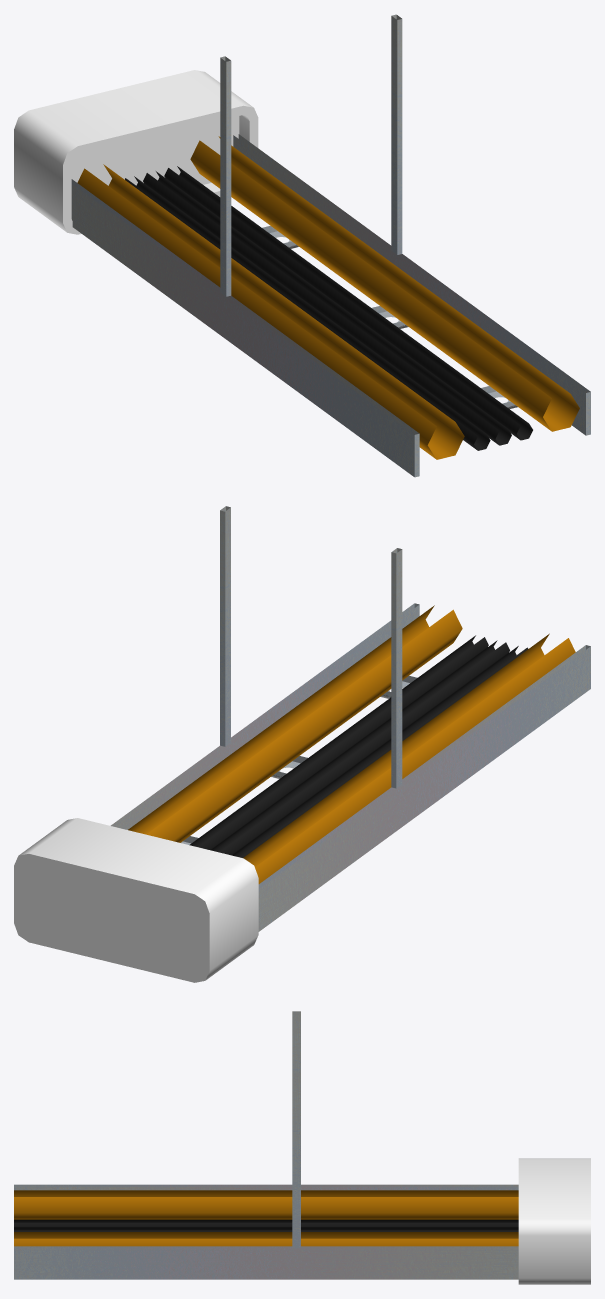
File: cabletray_Deadend.fbx
The picture shows the model from 3 angles, top to bottom: view 1: azimuth 30°, elevation 25°; view 2: azimuth 150°, elevation 25°; view 3: azimuth 270°, elevation 25°; orthographic projection. The views are drawn at different scales.
Parts seen in each view (by area): view 1: Cable_D.010; view 2: Cable_D.010; view 3: Cable_D.010.
Part boxes in pixels (left/top/right/bottom): Cable_D.010: left=14, top=14, right=590, bottom=477; Cable_D.010: left=14, top=506, right=590, bottom=982; Cable_D.010: left=14, top=1011, right=590, bottom=1284.
Size of the model in its own units: 0.7293 by 2.53 by 1.02.
